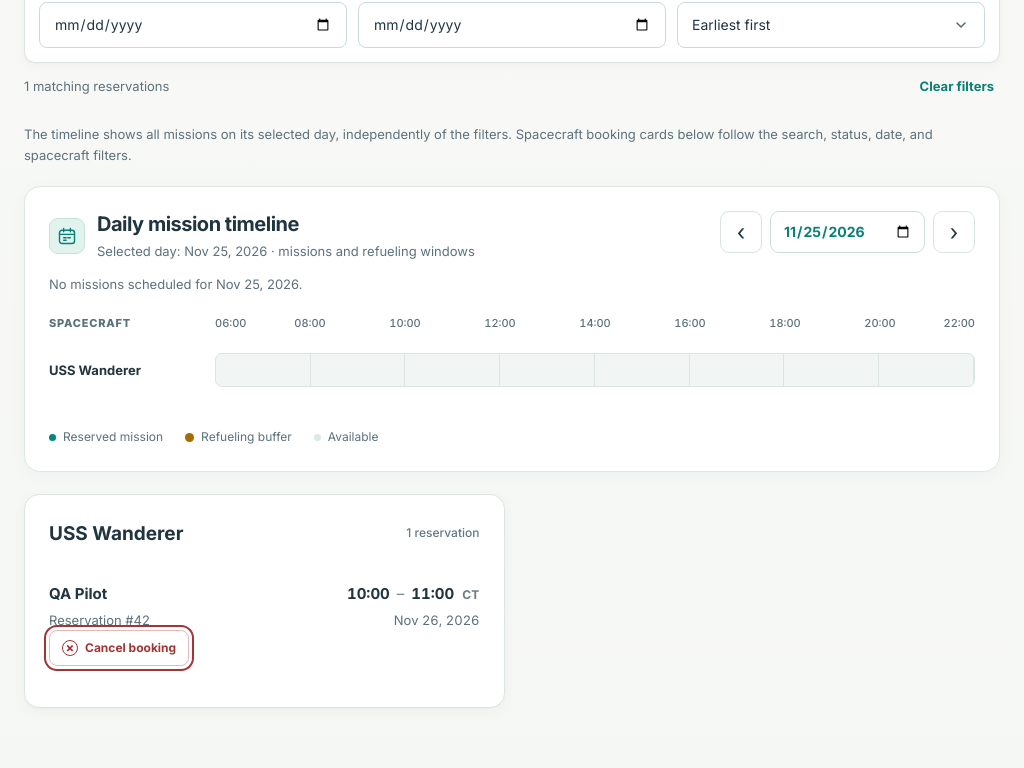
Fleet cancellation › contains keyboard focus, dismisses with Escape, and restores focus
(page scrolled)
Click the button with aria-label "Cancel booking 42 for QA Pilot" at (119, 648), box [49,630,189,666]
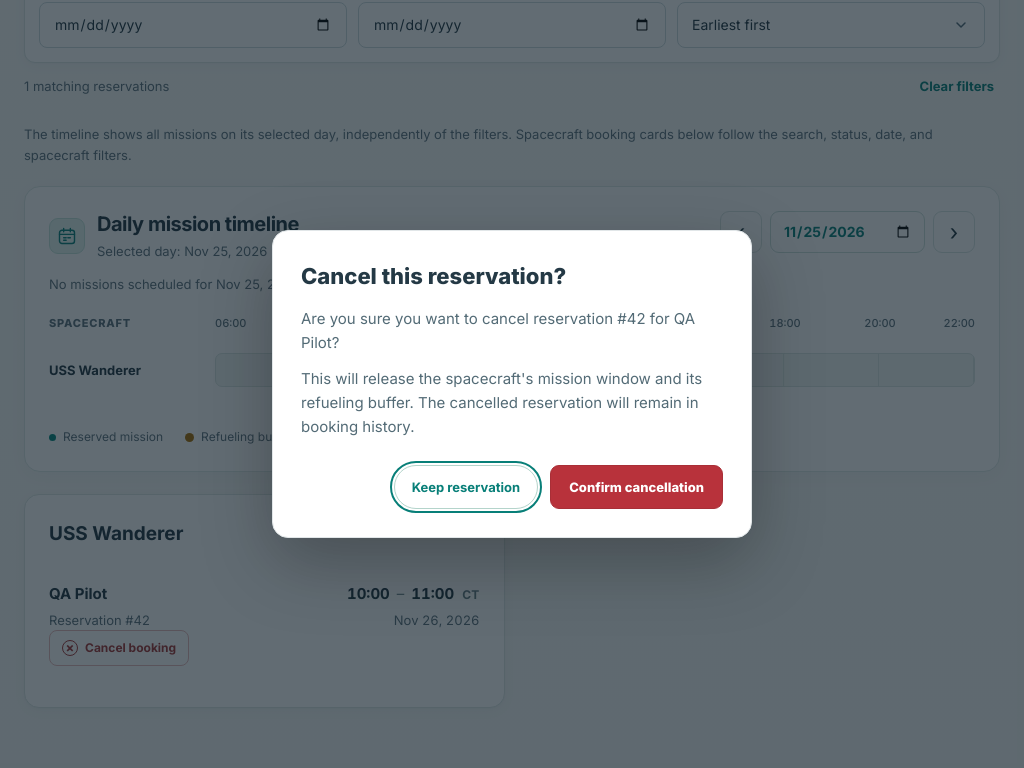
Press Tab in the button "Keep reservation", box [394,465,538,509]
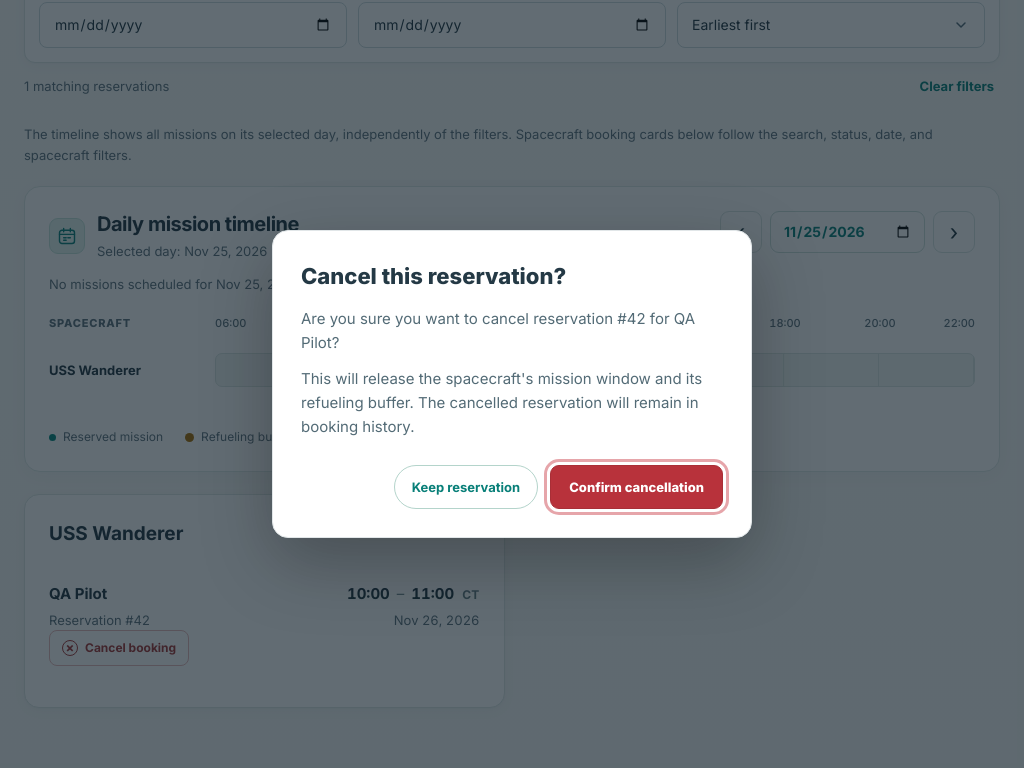
Press Tab in the button "Confirm cancellation", box [550,465,723,509]
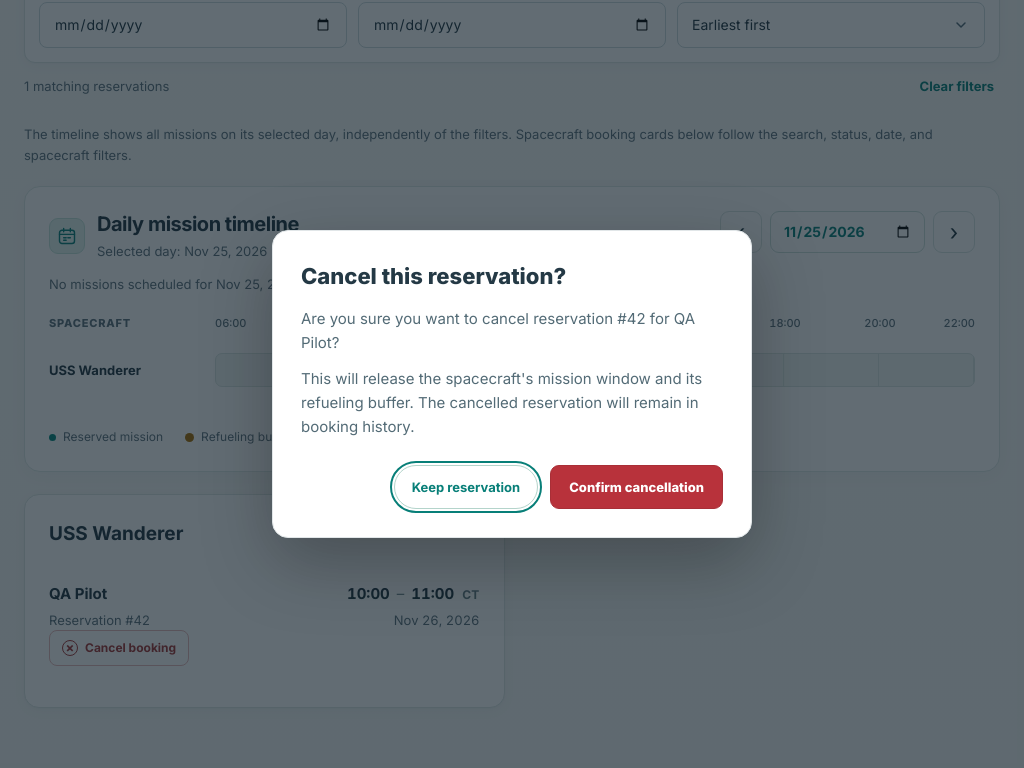
Press Escape in the button "Keep reservation", box [394,465,538,509]
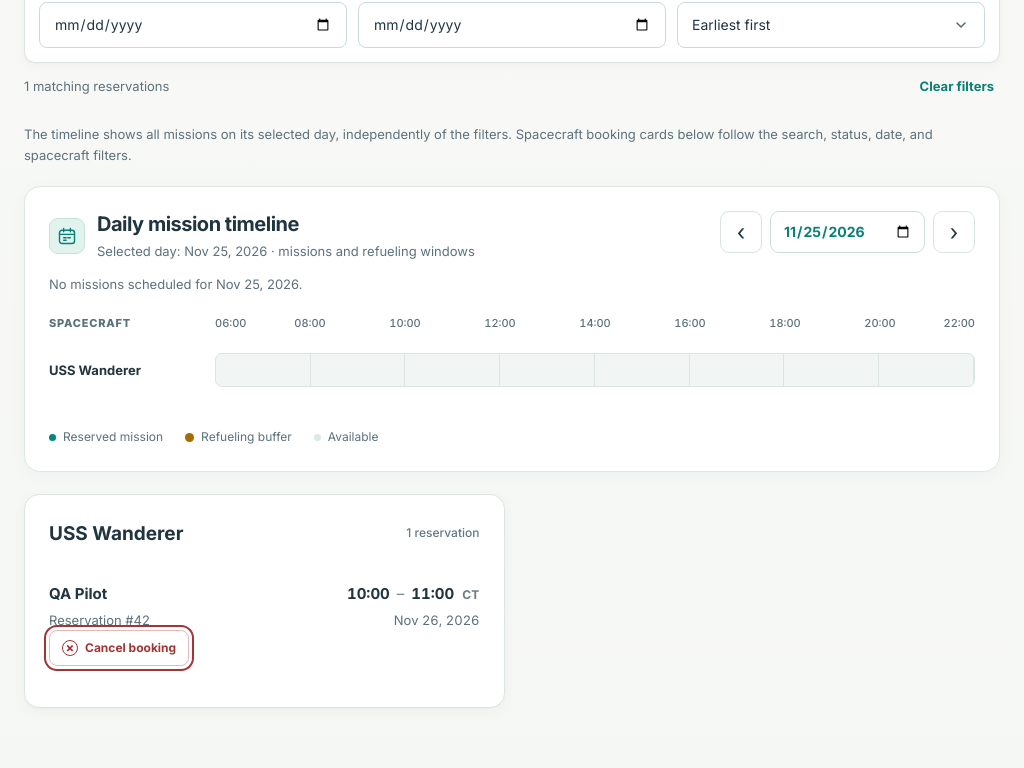
Result: the dialog is gone
